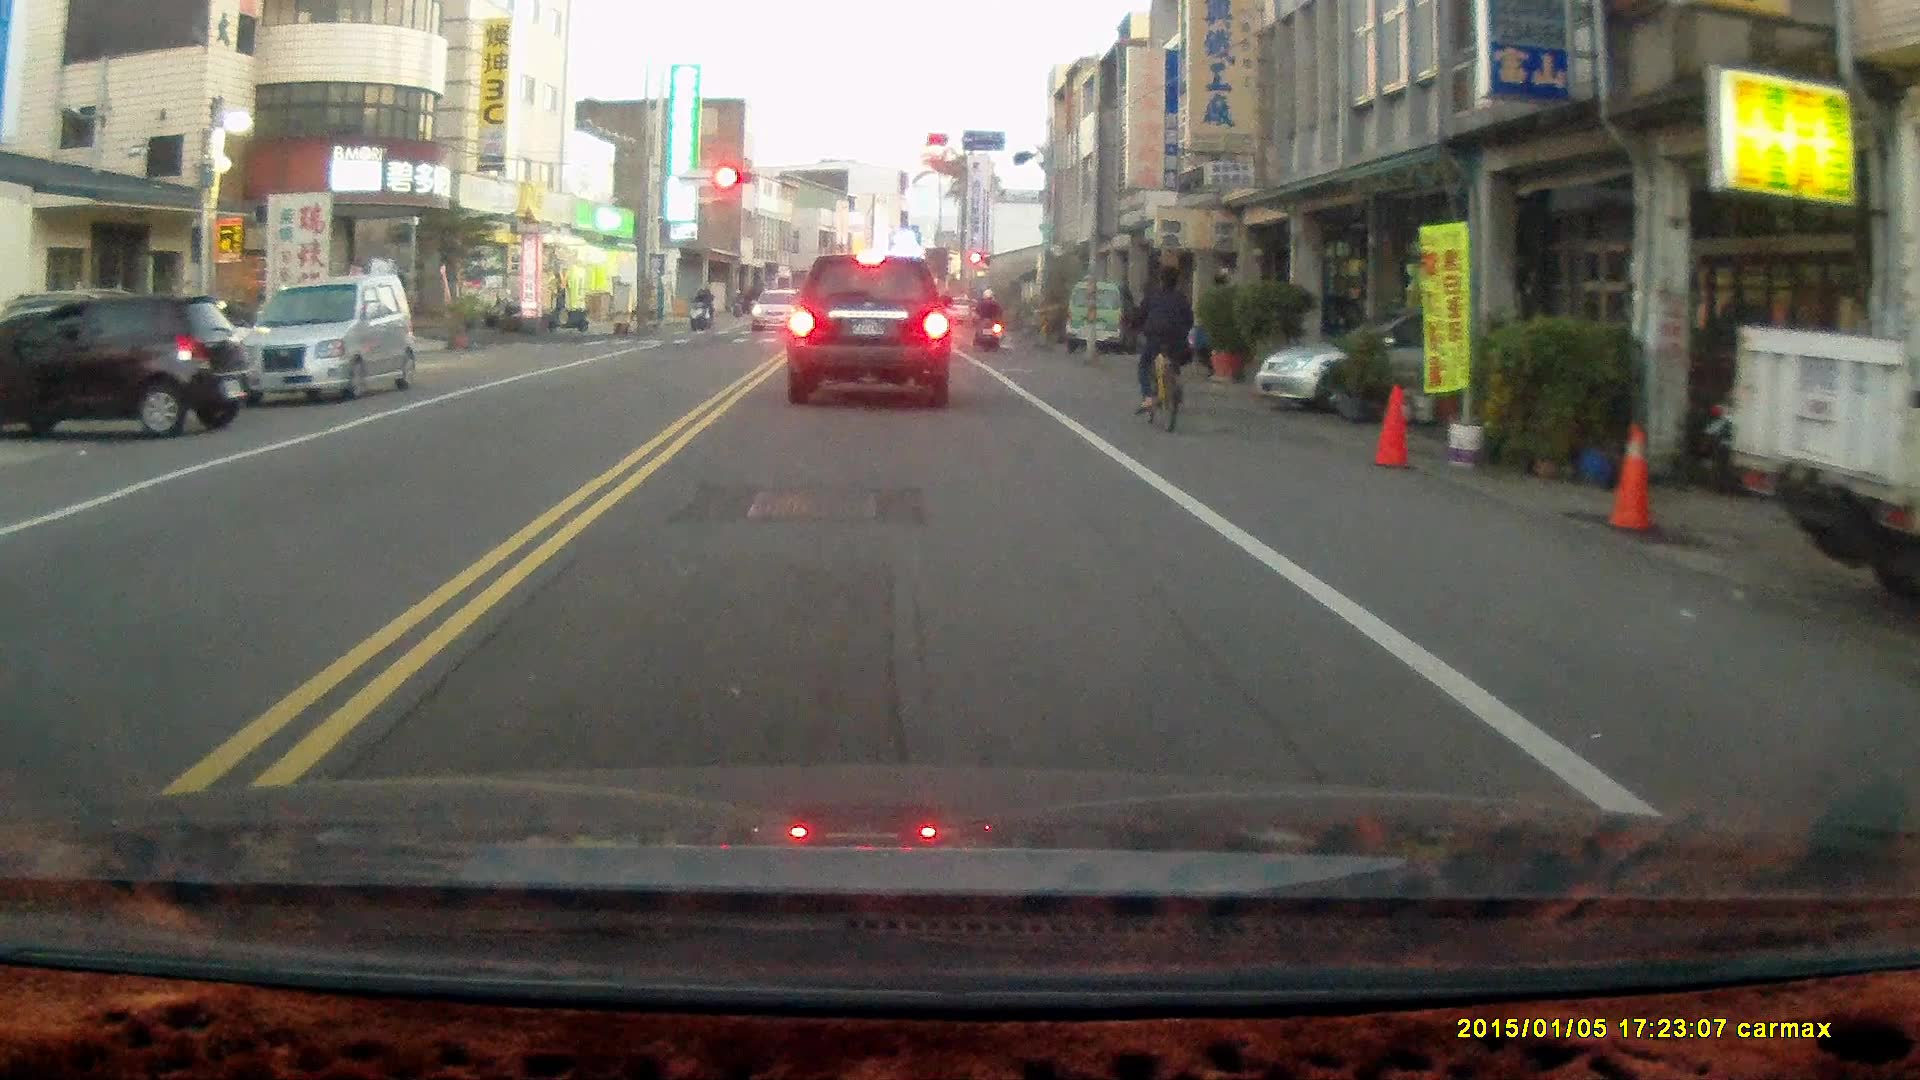rider: (1130, 265, 1194, 435), (969, 284, 1003, 352), (686, 282, 710, 331)
vehicle: (3, 290, 264, 443), (1251, 310, 1563, 419), (785, 252, 956, 411), (233, 273, 420, 403), (1064, 288, 1133, 363)
